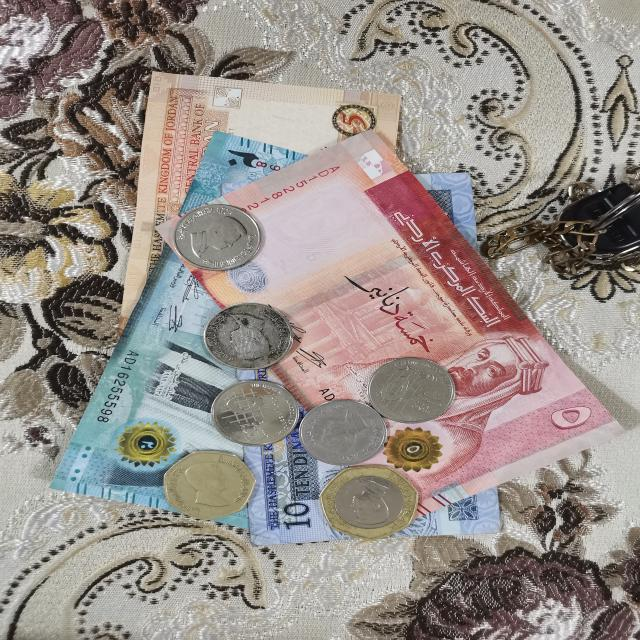10-dinar: (222, 172, 499, 550)
20-dinar: (47, 131, 442, 537)
25-coins: (162, 449, 257, 523)
5-coins: (367, 358, 474, 424), (200, 302, 297, 371), (171, 203, 265, 272), (297, 397, 390, 466), (212, 380, 303, 449)
5-dinar: (150, 130, 630, 527), (115, 72, 398, 363)
50-coins: (317, 463, 420, 542)
